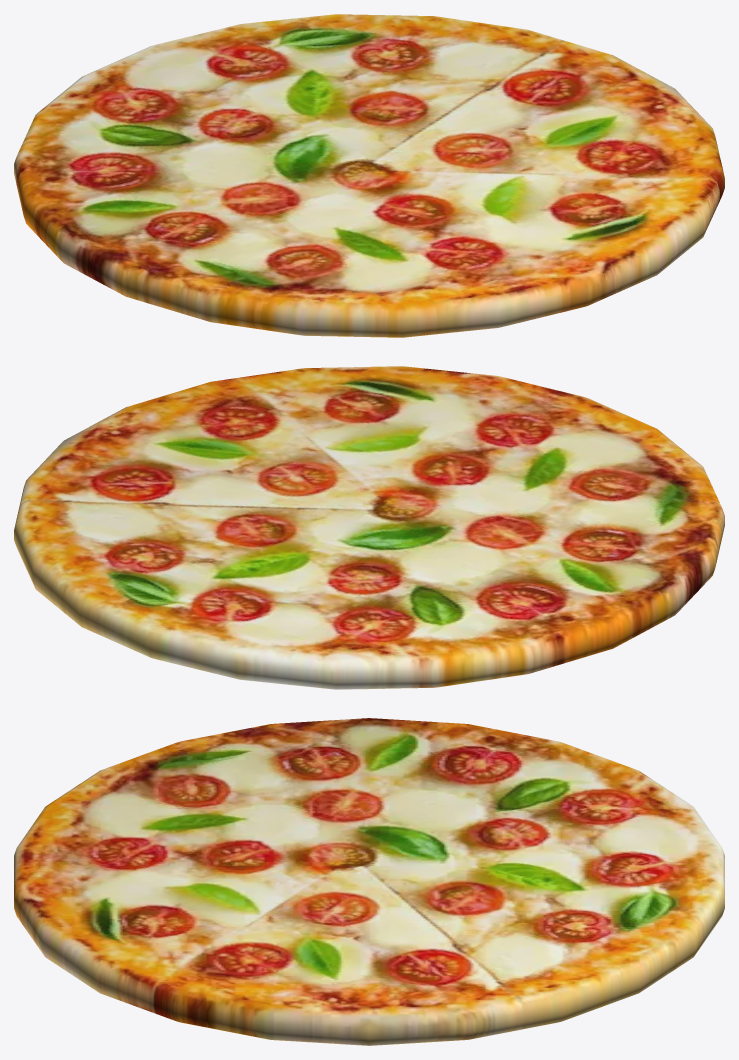
The model's file is APizza.glb.
3 views of the same model, one above another, from view 1: azimuth 30°, elevation 25°; view 2: azimuth 150°, elevation 25°; view 3: azimuth 270°, elevation 25° (orthographic).
Visible parts, largest first — view 1: APizza; view 2: APizza; view 3: APizza.
Boxes of the visible parts, <box> form: APizza: <box>14,14,724,337</box>; APizza: <box>14,366,724,689</box>; APizza: <box>14,718,724,1045</box>.
Size of the model in its own units: 0.00982 by 0.000485 by 0.00972.
1 material, 1 textured.
